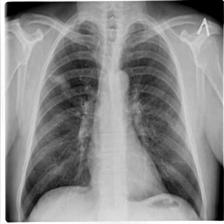tuberculosis: (13, 13, 210, 222)
